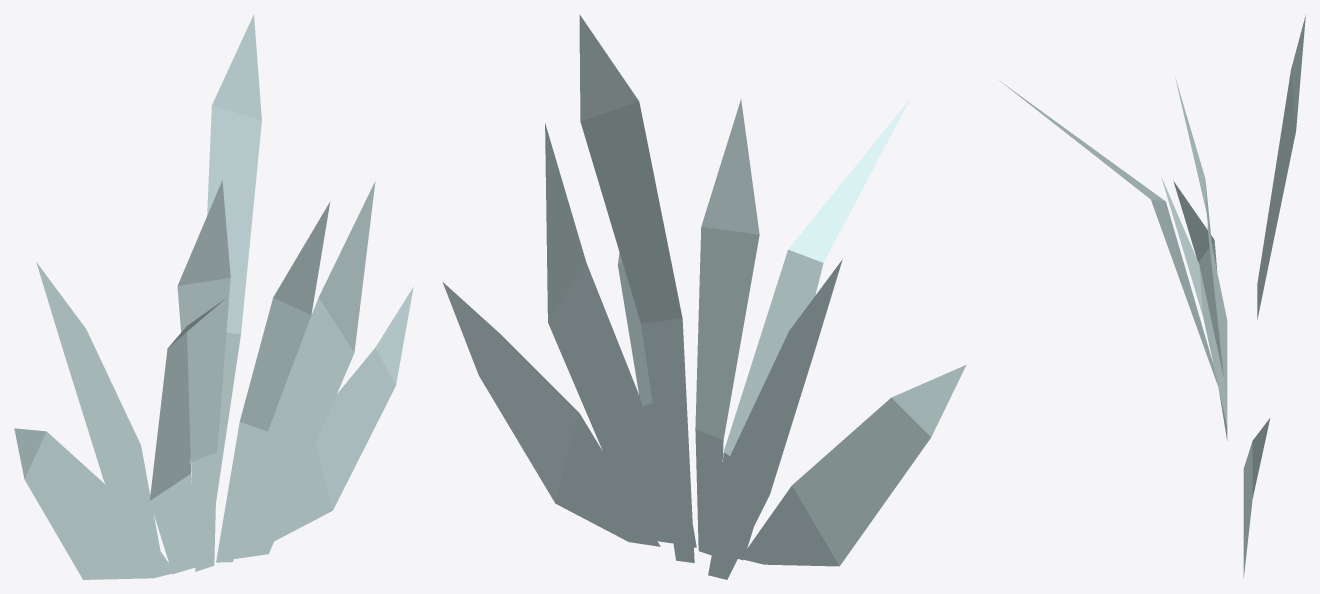
Rendered from grass-basic_white.glb.
The picture shows the model from 3 angles, left to right: view 1: azimuth 30°, elevation 25°; view 2: azimuth 150°, elevation 25°; view 3: azimuth 270°, elevation 25°; orthographic projection. The views are drawn at different scales.
Visible parts, largest first — view 1: grass-basic_winter; view 2: grass-basic_winter; view 3: grass-basic_winter.
Part boxes in pixels (x1,y1,x2,y2): grass-basic_winter: (14,14,413,579); grass-basic_winter: (442,14,966,579); grass-basic_winter: (999,14,1305,577).
Size of the model in its own units: 1.04 by 1.14 by 0.5743.
1 material, 1 textured.
